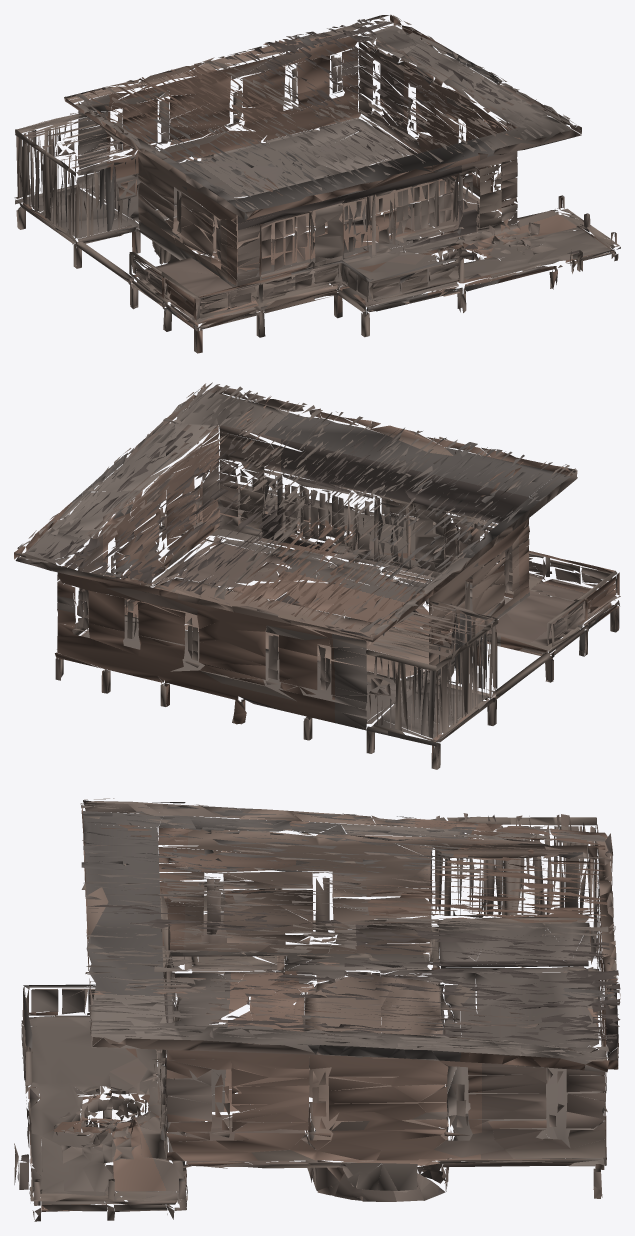
File: lakehouse.glb
The picture shows the model from 3 angles, top to bottom: view 1: azimuth 30°, elevation 25°; view 2: azimuth 150°, elevation 25°; view 3: azimuth 270°, elevation 25°; orthographic projection. The views are drawn at different scales.
Parts seen in each view (by area): view 1: LO.001; view 2: LO.001; view 3: LO.001.
Part boxes in pixels (left/top/right/bottom): LO.001: left=14, top=14, right=620, bottom=353; LO.001: left=14, top=382, right=620, bottom=769; LO.001: left=14, top=798, right=620, bottom=1221.
Size of the model in its own units: 1.93 by 0.6337 by 1.74.
1 material, 1 textured.
